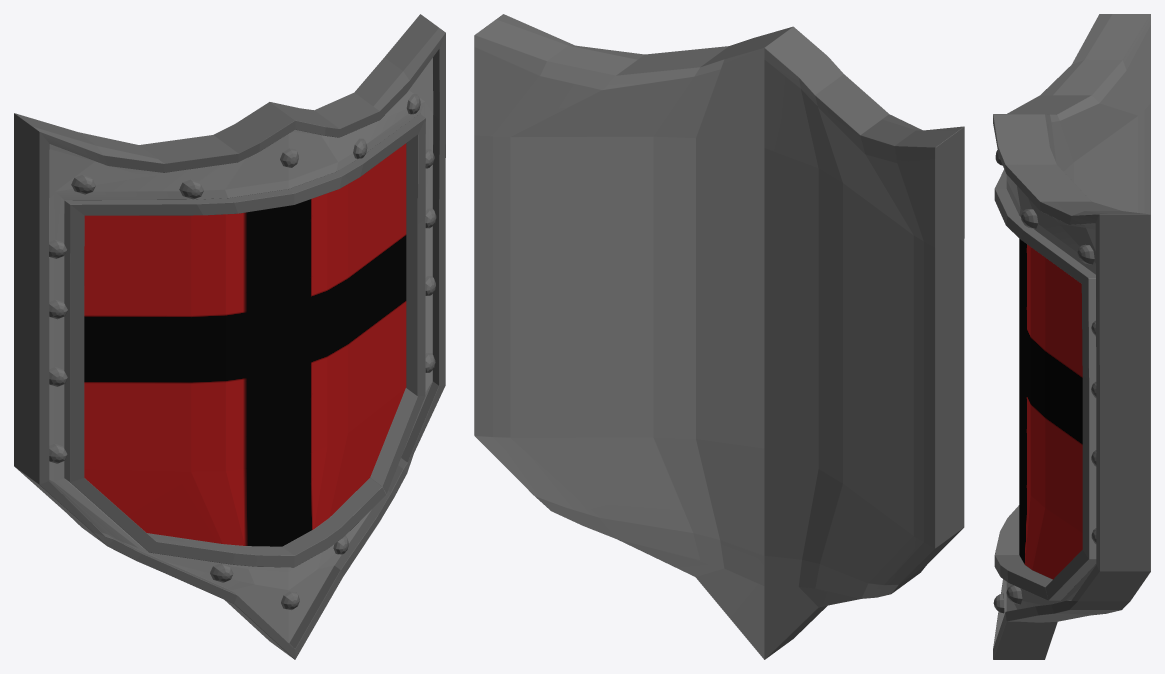
File: finalSHIELD.fbx
3 renders of one model, left to right at view 1: azimuth 30°, elevation 25°; view 2: azimuth 150°, elevation 25°; view 3: azimuth 270°, elevation 25°, orthographic. The views are drawn at different scales.
Parts seen in each view (by area): view 1: pCube2; view 2: pCube2; view 3: pCube2.
Part boxes in pixels (x1,y1,x2,y2): pCube2: (14,14,445,659); pCube2: (474,14,964,659); pCube2: (993,14,1150,659).
Bounding box in the file's own units: 4.78 × 6.06 × 1.59.
1 material, 1 textured.
